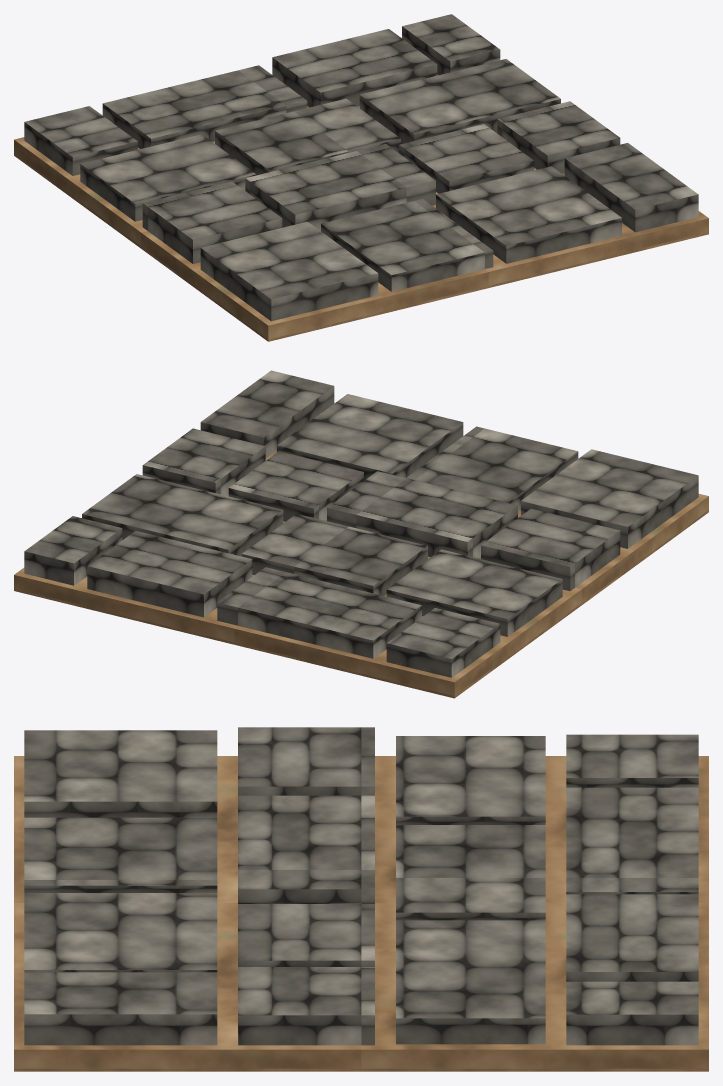
File: RockPath_Irregular_Wide.gltf
The picture shows the model from 3 angles, top to bottom: view 1: azimuth 30°, elevation 25°; view 2: azimuth 150°, elevation 25°; view 3: azimuth 270°, elevation 25°; orthographic projection. The views are drawn at different scales.
Parts seen in each view (by area): view 1: RockPath_Irregular_Wide; view 2: RockPath_Irregular_Wide; view 3: RockPath_Irregular_Wide.
Boxes of the visible parts, left/top/right/bottom form: RockPath_Irregular_Wide: left=14, top=14, right=708, bottom=341; RockPath_Irregular_Wide: left=14, top=370, right=708, bottom=698; RockPath_Irregular_Wide: left=14, top=727, right=708, bottom=1071.
Size of the model in its own units: 2 by 0.1752 by 2.
Materials: 2 (2 with a texture image).
